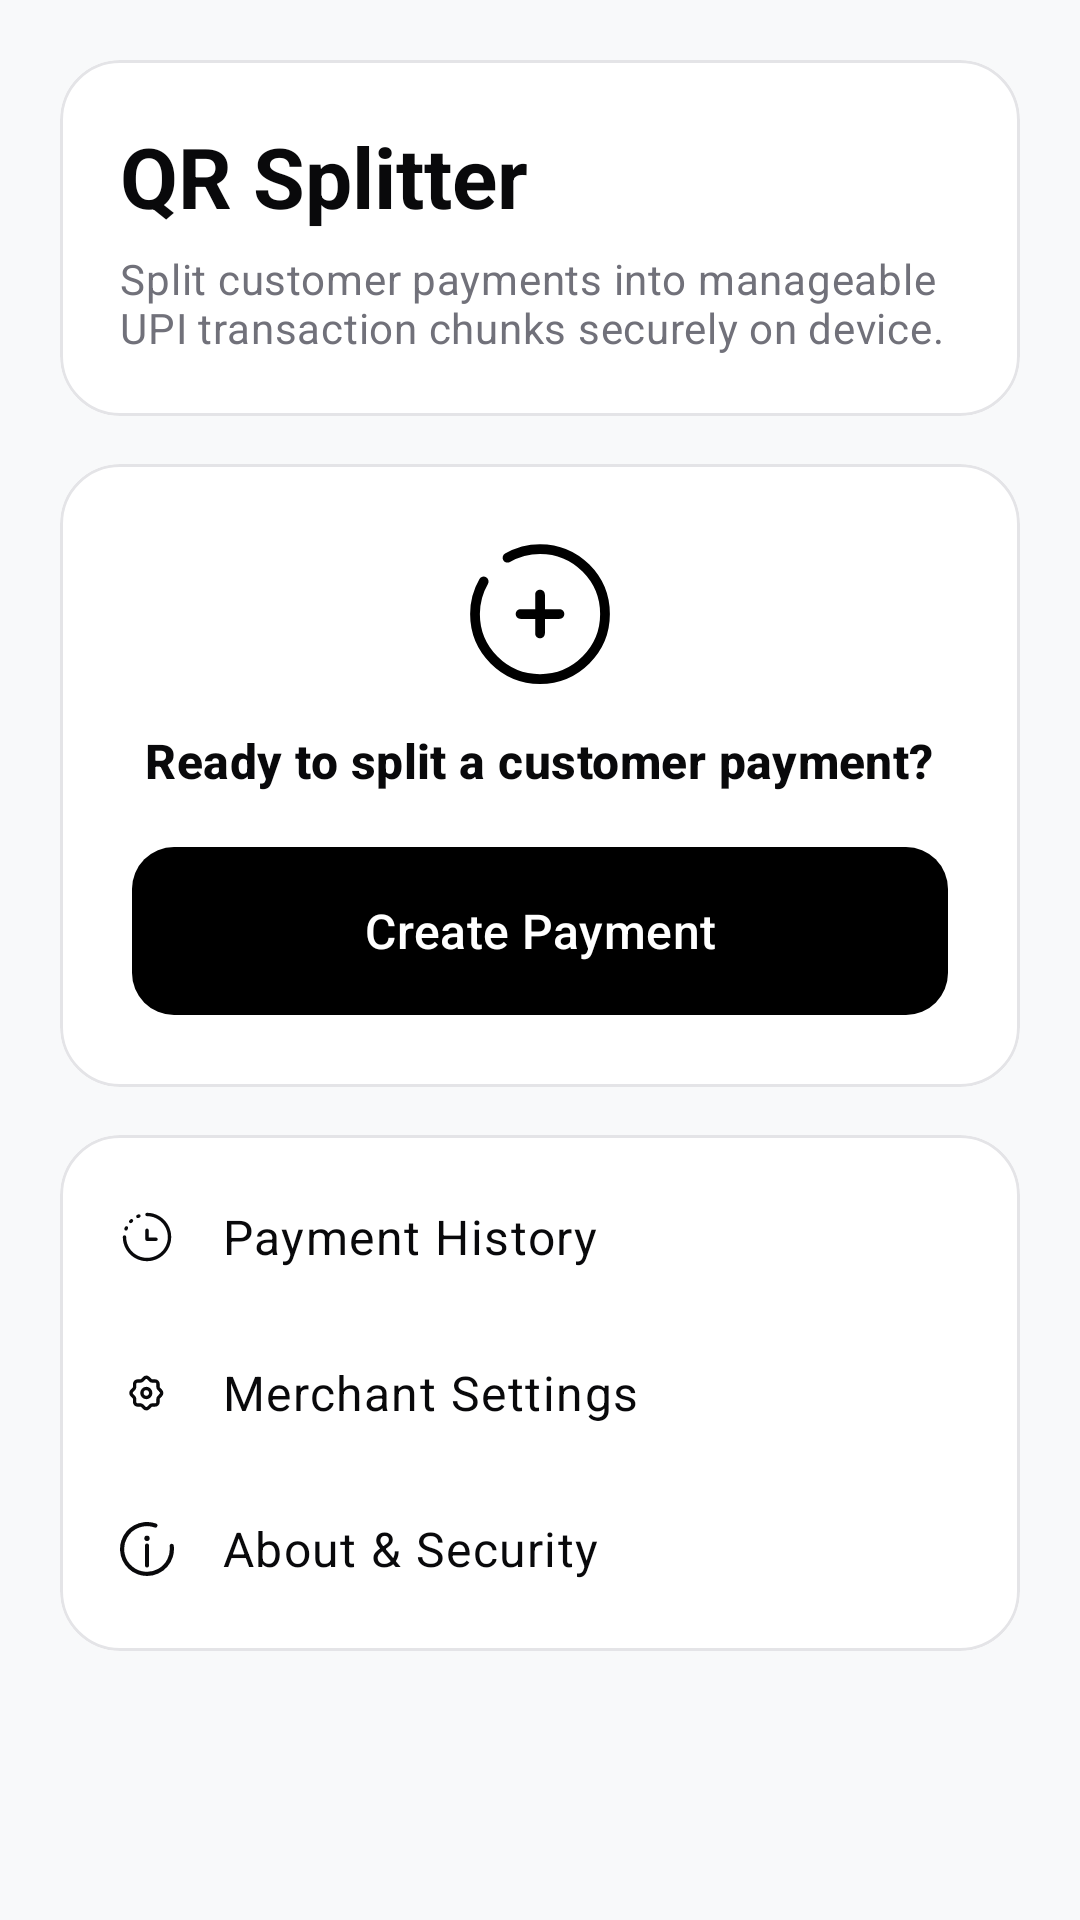

Icon click points for this 1080 x 1920 phone screenshot, format (x=x, y=y):
Create Payment: (x=540, y=614)
